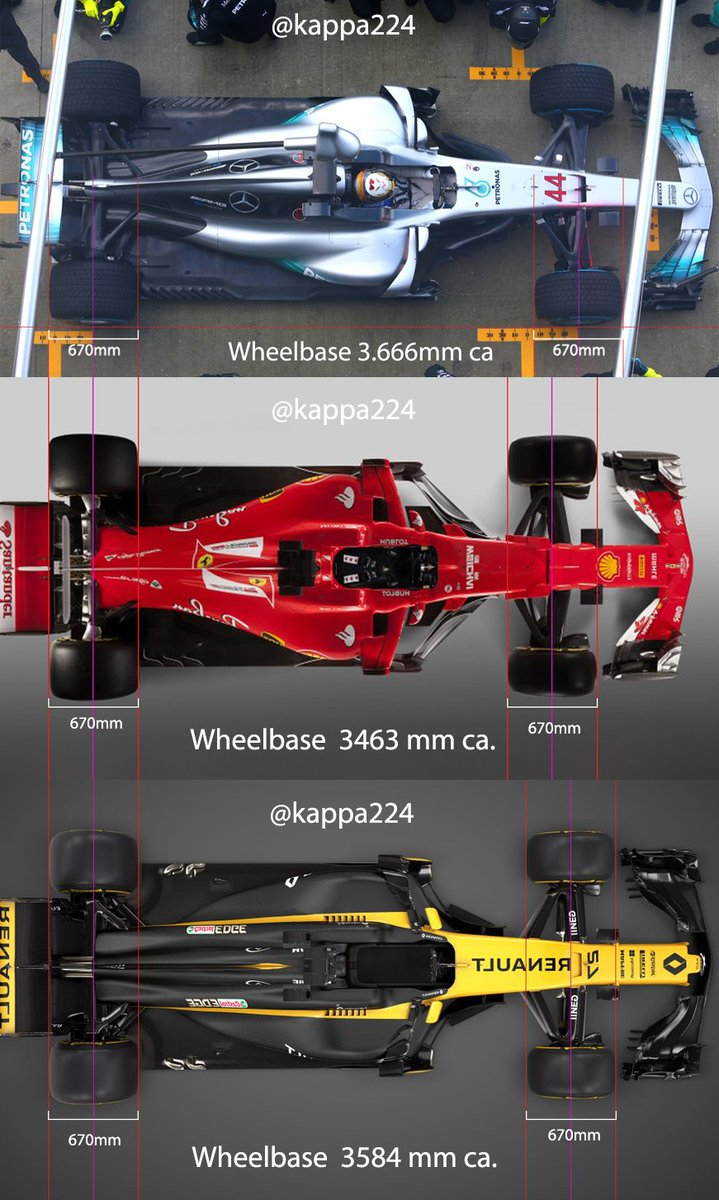f1_car: (3, 419, 709, 726), (3, 51, 719, 349), (4, 815, 714, 1115)
helmet: (347, 163, 399, 204)
